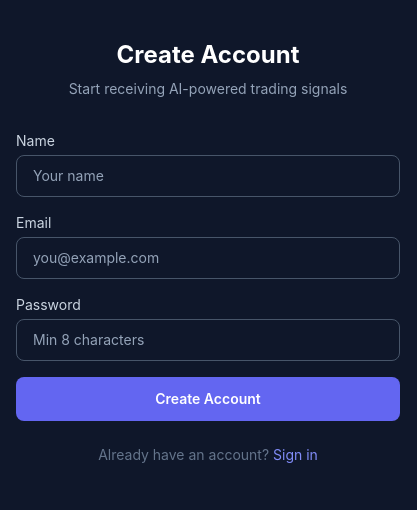
RegisterPage › shows error on failed registration
Type "Test" into the field labelled "Name" at (208, 176), box [16,155,400,197]
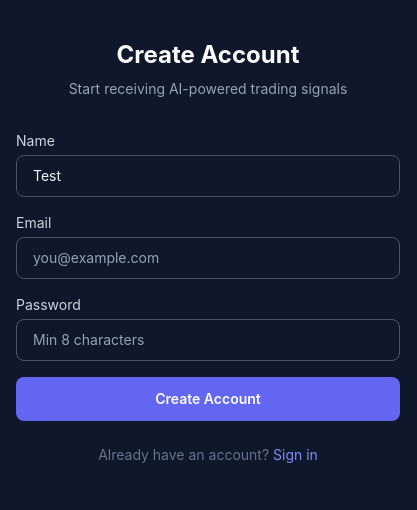
Type "test@test.com" into the field labelled "Email" at (208, 258), box [16,237,400,279]
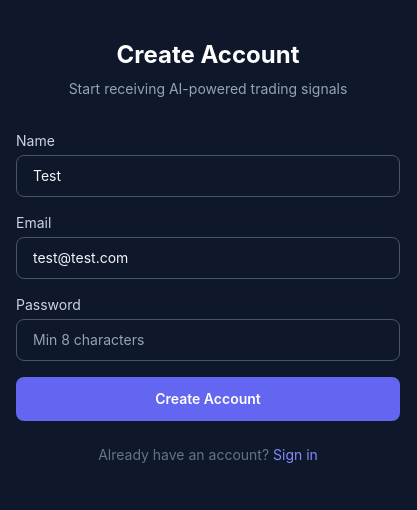
Type "password123" into the password field labelled "Password" at (208, 340), box [16,319,400,361]
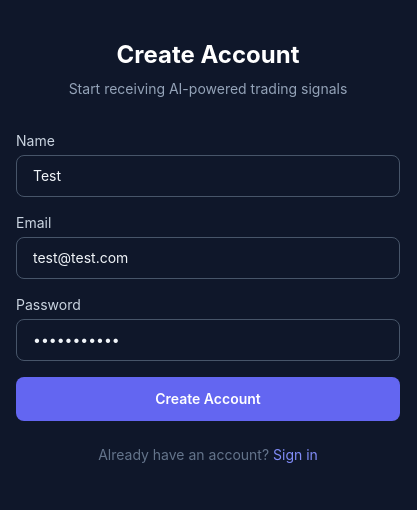
Click the button "Create Account" at (208, 399), box [16,377,400,421]
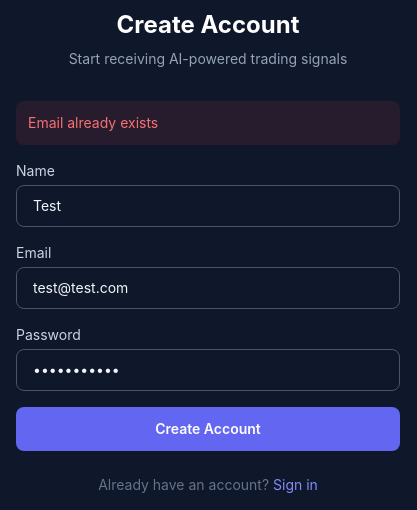
Result: the text "Email already exists" is shown at [16,101,400,145]
